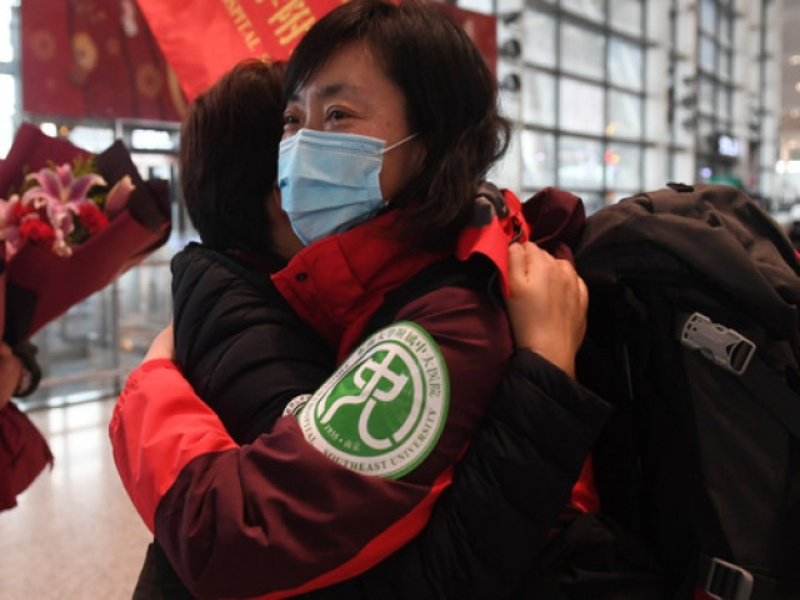ManaoArotava: (259, 2, 437, 254)
